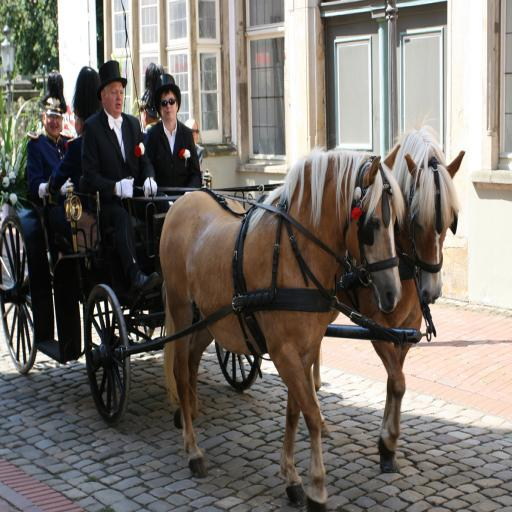Horse: (162, 145, 407, 511), (307, 102, 467, 472)
